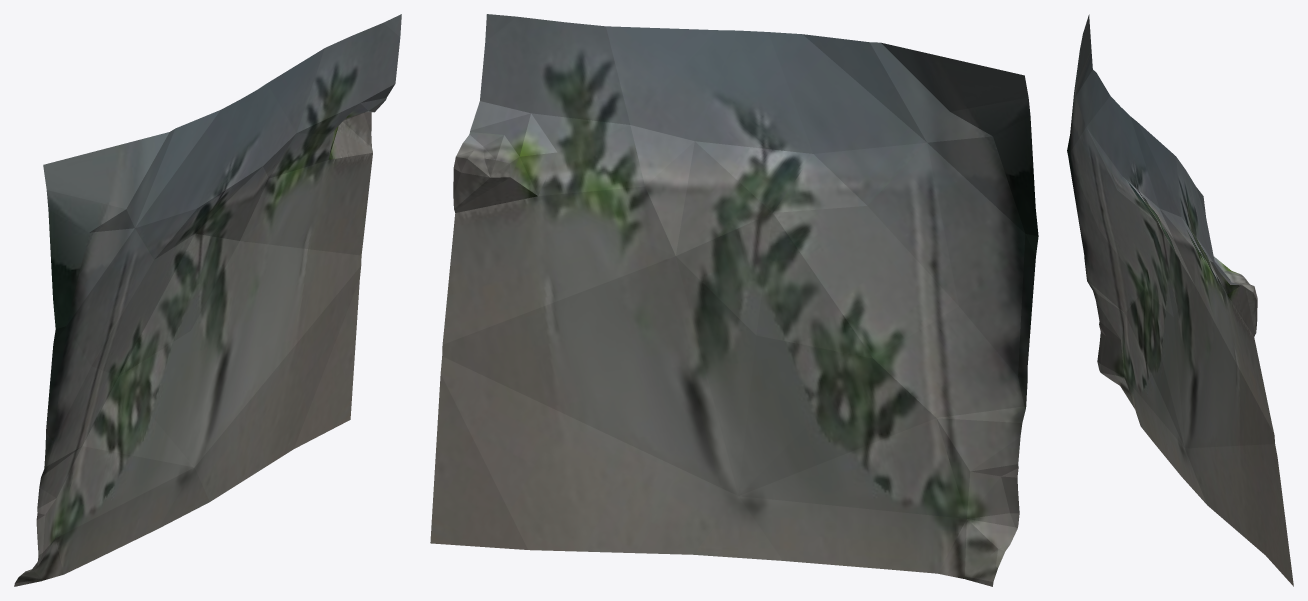
The picture shows the model from 3 angles, left to right: view 1: azimuth 30°, elevation 25°; view 2: azimuth 150°, elevation 25°; view 3: azimuth 270°, elevation 25°; orthographic projection. The views are drawn at different scales.
Size of the model in its own units: 0.8374 by 0.8374 by 0.4407.
3 materials, 3 textured.
